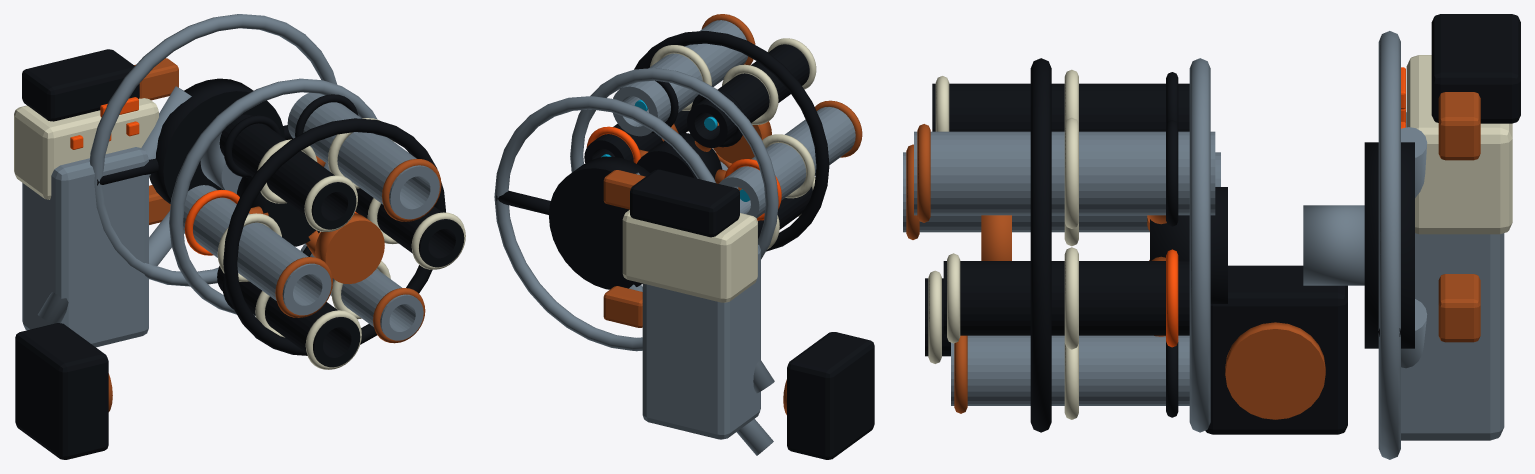
File: M01-019_six_tube_smoke_launcher.obj
3 views of the same model, side by side, from view 1: azimuth 30°, elevation 25°; view 2: azimuth 150°, elevation 25°; view 3: azimuth 270°, elevation 25° (orthographic). The views are drawn at different scales.
Visible parts, largest first — view 1: M01-019_Receiver_spine, M01-019_Side_mount_foot, M01-019_Fixed_guard_hoop, M01-019_Open_bore_03, M01-019_Open_bore_01, M01-019_Drum_Front_retainer, M01-019_Ceramic_receiver_shield, M01-019_Open_bore_02, M01-019_Receiver_upper, M01-019_Drum_Rear_retainer, M01-019_Bearing_rear_plate, M01-019_Open_bore_04 (+23 smaller); view 2: M01-019_Receiver_spine, M01-019_Side_mount_foot, M01-019_Ceramic_receiver_shield, M01-019_Bearing_rear_plate, M01-019_Fixed_guard_hoop, M01-019_Receiver_upper, M01-019_Drum_Rear_retainer, M01-019_Drum_Front_retainer, M01-019_Open_bore_03, M01-019_Open_bore_01, M01-019_Open_bore_02, M01-019_Drum_hub (+18 smaller); view 3: M01-019_Open_bore_01, M01-019_Receiver_spine, M01-019_Side_mount_foot, M01-019_Open_bore_00, M01-019_Open_bore_05, M01-019_Ceramic_receiver_shield, M01-019_Open_bore_02, M01-019_Fixed_guard_hoop, M01-019_Receiver_upper, M01-019_Drum_Rear_retainer, M01-019_Drum_Front_retainer, M01-019_Mount_lock (+23 smaller).
Boxes of the visible parts, left/top/right/bottom form: M01-019_Receiver_spine: left=22, top=147, right=148, bottom=347; M01-019_Side_mount_foot: left=15, top=323, right=108, bottom=459; M01-019_Fixed_guard_hoop: left=89, top=14, right=337, bottom=286; M01-019_Open_bore_03: left=183, top=185, right=331, bottom=315; M01-019_Open_bore_01: left=287, top=93, right=439, bottom=219; M01-019_Drum_Front_retainer: left=223, top=118, right=445, bottom=355; M01-019_Ceramic_receiver_shield: left=14, top=98, right=158, bottom=199; M01-019_Open_bore_02: left=219, top=114, right=356, bottom=229; M01-019_Receiver_upper: left=22, top=49, right=139, bottom=121; M01-019_Drum_Rear_retainer: left=169, top=78, right=377, bottom=316; M01-019_Bearing_rear_plate: left=149, top=78, right=284, bottom=203; M01-019_Open_bore_04: left=217, top=266, right=360, bottom=367; M01-019_Receiver_spine: left=642, top=245, right=760, bottom=439; M01-019_Side_mount_foot: left=787, top=332, right=874, bottom=459; M01-019_Ceramic_receiver_shield: left=622, top=210, right=757, bottom=302; M01-019_Bearing_rear_plate: left=549, top=156, right=650, bottom=289; M01-019_Fixed_guard_hoop: left=494, top=96, right=715, bottom=351; M01-019_Receiver_upper: left=630, top=169, right=739, bottom=237; M01-019_Drum_Rear_retainer: left=570, top=68, right=778, bottom=259; M01-019_Drum_Front_retainer: left=634, top=31, right=829, bottom=251; M01-019_Open_bore_03: left=719, top=107, right=855, bottom=218; M01-019_Open_bore_01: left=613, top=20, right=747, bottom=136; M01-019_Open_bore_02: left=687, top=44, right=809, bottom=147; M01-019_Drum_hub: left=637, top=133, right=722, bottom=179; M01-019_Open_bore_01: left=914, top=131, right=1215, bottom=215; M01-019_Receiver_spine: left=1401, top=112, right=1504, bottom=440; M01-019_Side_mount_foot: left=1205, top=265, right=1347, bottom=434; M01-019_Open_bore_00: left=943, top=261, right=1189, bottom=335; M01-019_Open_bore_05: left=951, top=335, right=1189, bottom=405; M01-019_Ceramic_receiver_shield: left=1406, top=55, right=1512, bottom=234; M01-019_Open_bore_02: left=932, top=83, right=1189, bottom=131; M01-019_Fixed_guard_hoop: left=1378, top=31, right=1400, bottom=459; M01-019_Receiver_upper: left=1431, top=14, right=1520, bottom=123; M01-019_Drum_Rear_retainer: left=1189, top=58, right=1210, bottom=432; M01-019_Drum_Front_retainer: left=1030, top=58, right=1051, bottom=432; M01-019_Mount_lock: left=1225, top=322, right=1325, bottom=419.
Bounding box in the file's own units: 1.04 × 1.01 × 1.11.
